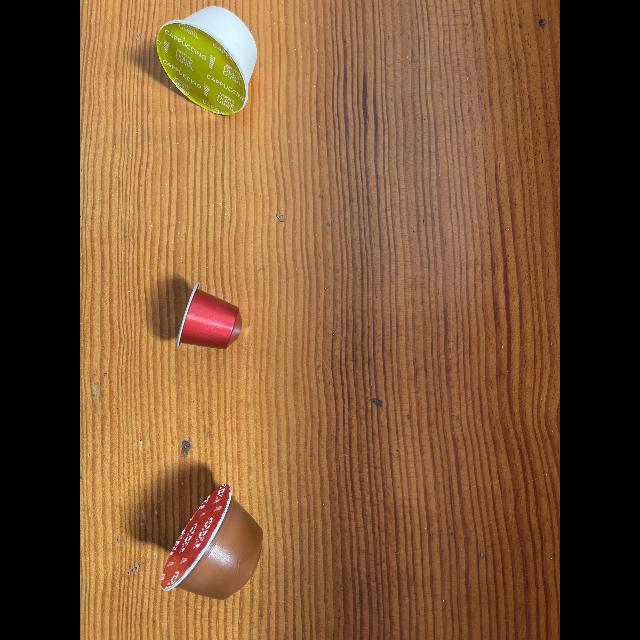intact_capsule: (155, 468, 273, 640), (148, 0, 272, 120), (166, 277, 252, 361)
